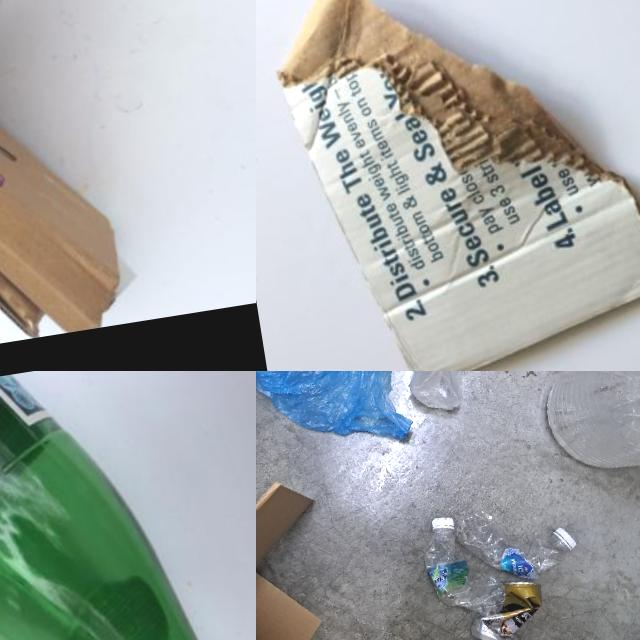garrafa de vidro: (0, 371, 256, 640)
garrafa plástica: (533, 371, 640, 483), (465, 494, 562, 584), (426, 531, 495, 615)
lata: (473, 573, 547, 640)
papelão: (267, 0, 640, 371), (0, 0, 194, 364), (256, 432, 349, 640)
sacola plástica: (256, 371, 425, 479), (391, 371, 574, 428)
tampa plástica: (551, 521, 577, 552), (431, 508, 457, 534)
